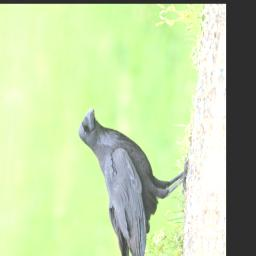Crow: (65, 105, 193, 256)
